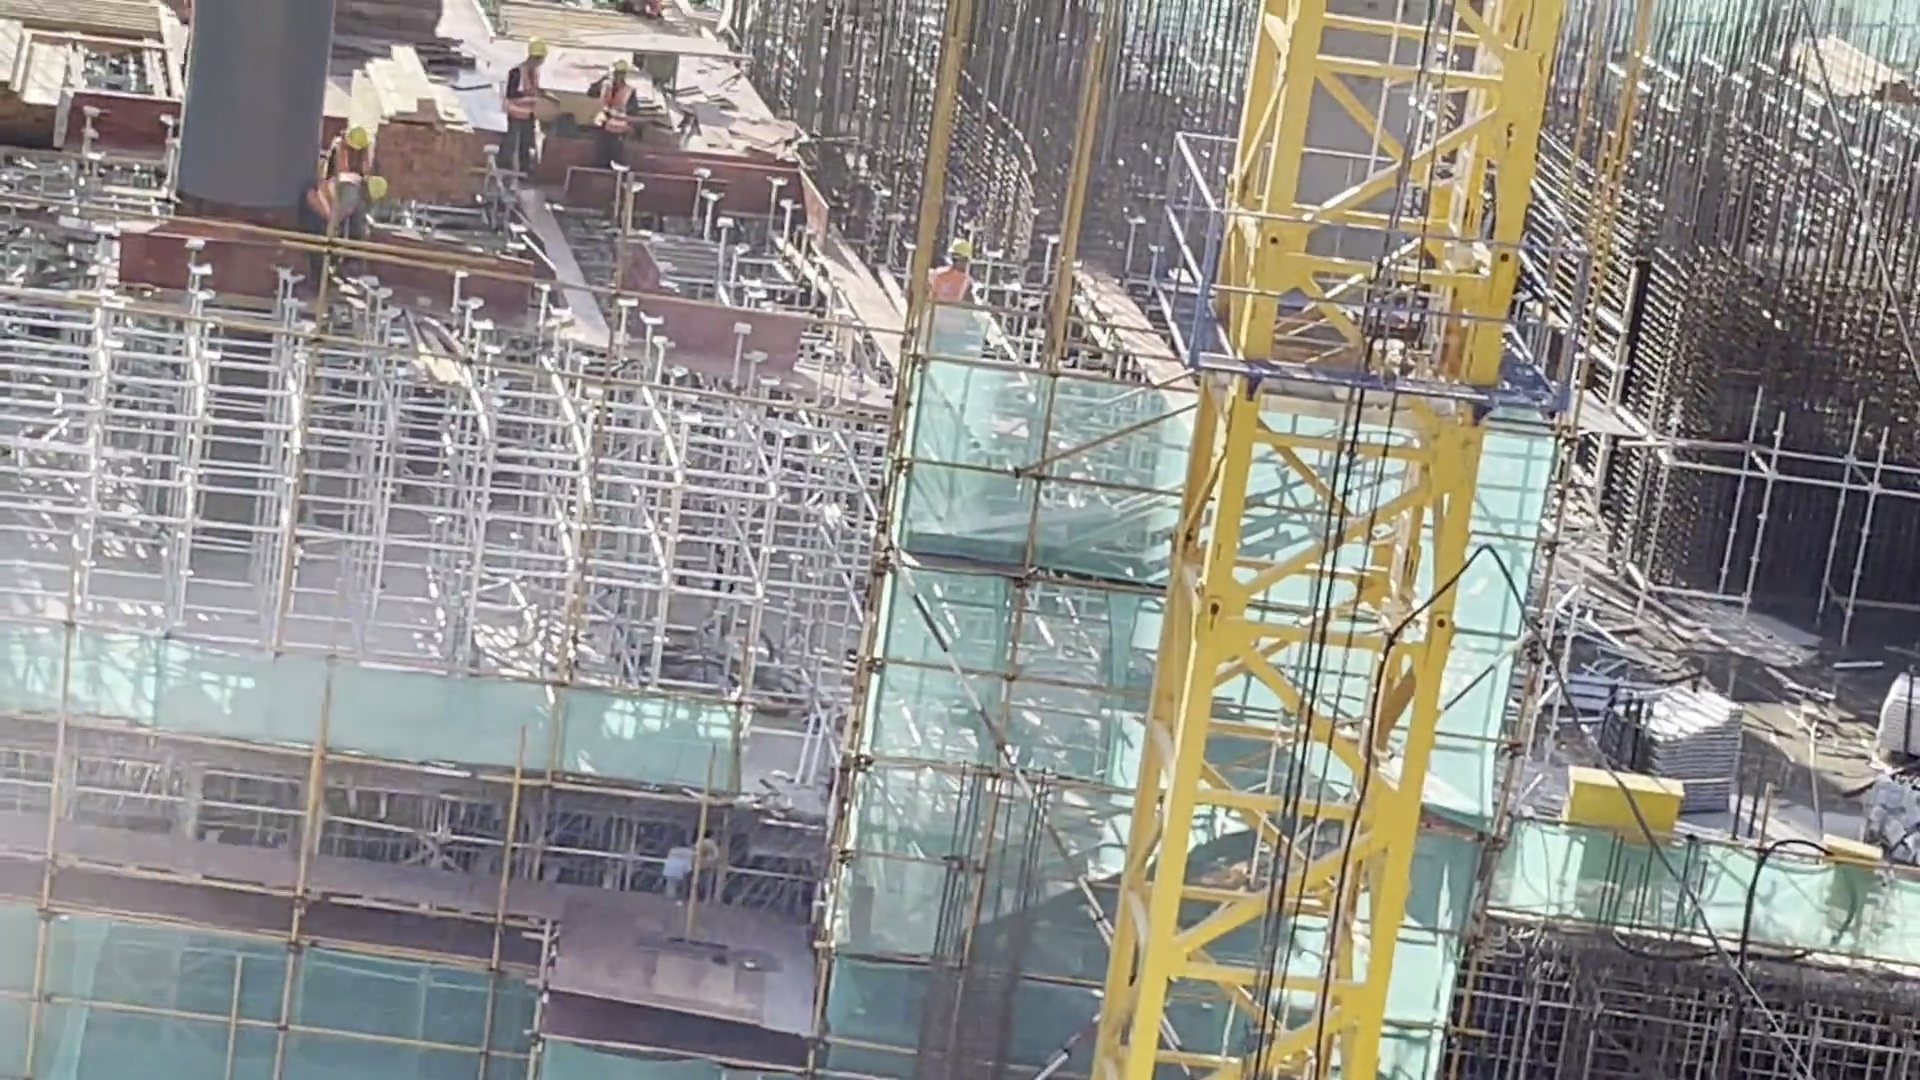cutter: (581, 20, 754, 79)
ebox: (1560, 756, 1685, 845), (1824, 832, 1882, 938)
helmet: (947, 236, 970, 263), (527, 38, 554, 57), (346, 125, 368, 146), (364, 178, 388, 198), (611, 56, 631, 76)
person: (495, 34, 559, 180), (301, 172, 380, 242), (591, 56, 633, 174), (928, 234, 976, 302), (324, 125, 379, 184)
scaffold: (1594, 684, 1748, 808)
vest: (593, 75, 639, 134), (306, 173, 360, 222), (506, 67, 550, 123), (932, 265, 972, 304), (332, 139, 370, 177)
wood: (338, 43, 465, 216), (1, 19, 79, 152), (329, 1, 460, 63)
